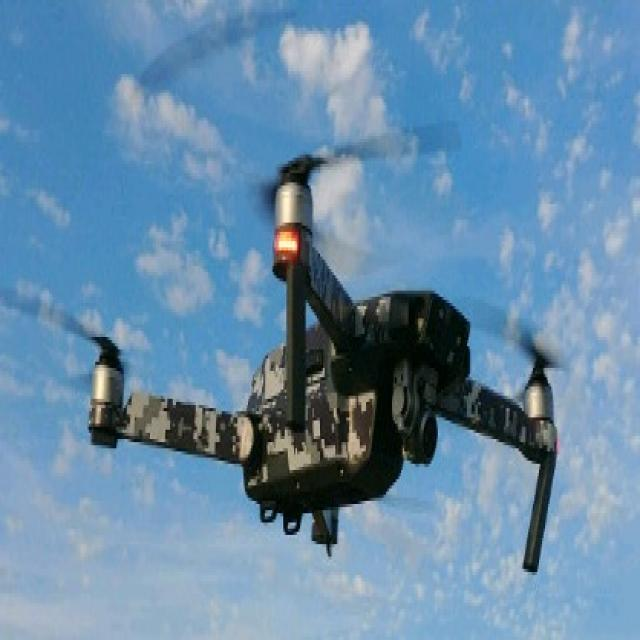drone: (24, 96, 574, 596)
